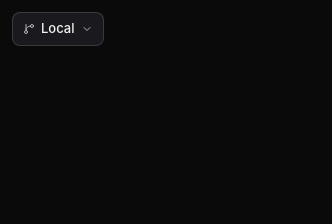
Test: WorkLocation › is unavailable outside a repository, and absent for existing threads
The image size is (332, 224).
Step 1. Click the button with aria-label "Where this thread works" → (58, 29), box x1=12 y1=12 x2=104 y2=46
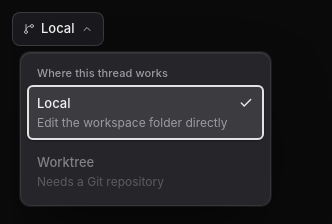
Now the option "Worktree Needs a Git repository" is disabled, box x1=27 y1=144 x2=264 y2=199
Now the text "Needs a Git repository" is shown, box x1=37 y1=174 x2=164 y2=189
